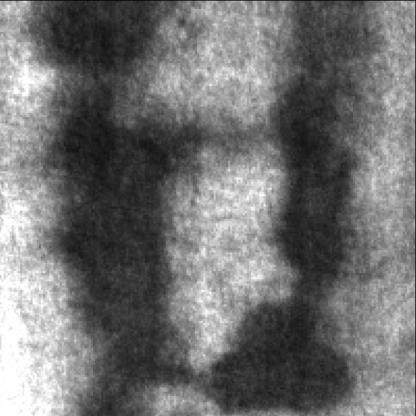patches: (43, 77, 222, 414), (268, 0, 377, 289), (200, 293, 368, 412), (31, 0, 179, 75)
